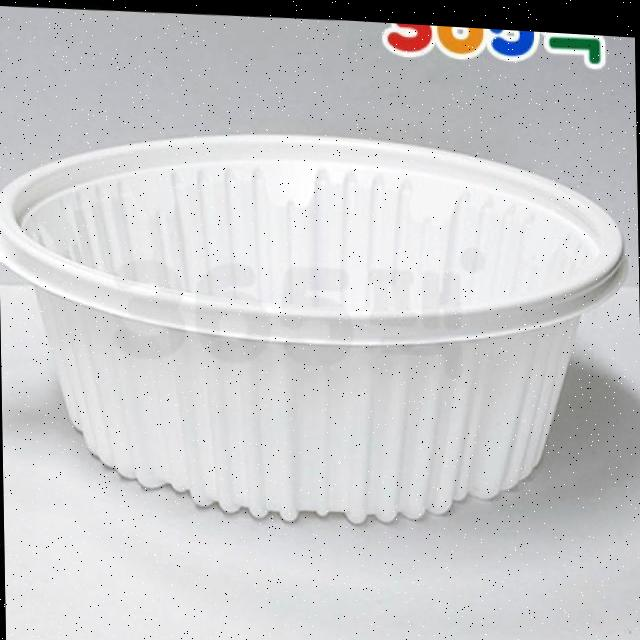disposable: (0, 96, 640, 555)
